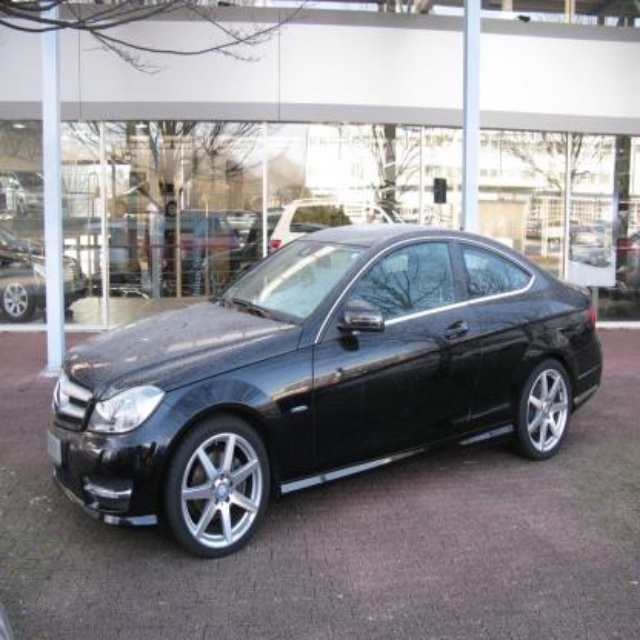Car: (45, 222, 608, 553)
